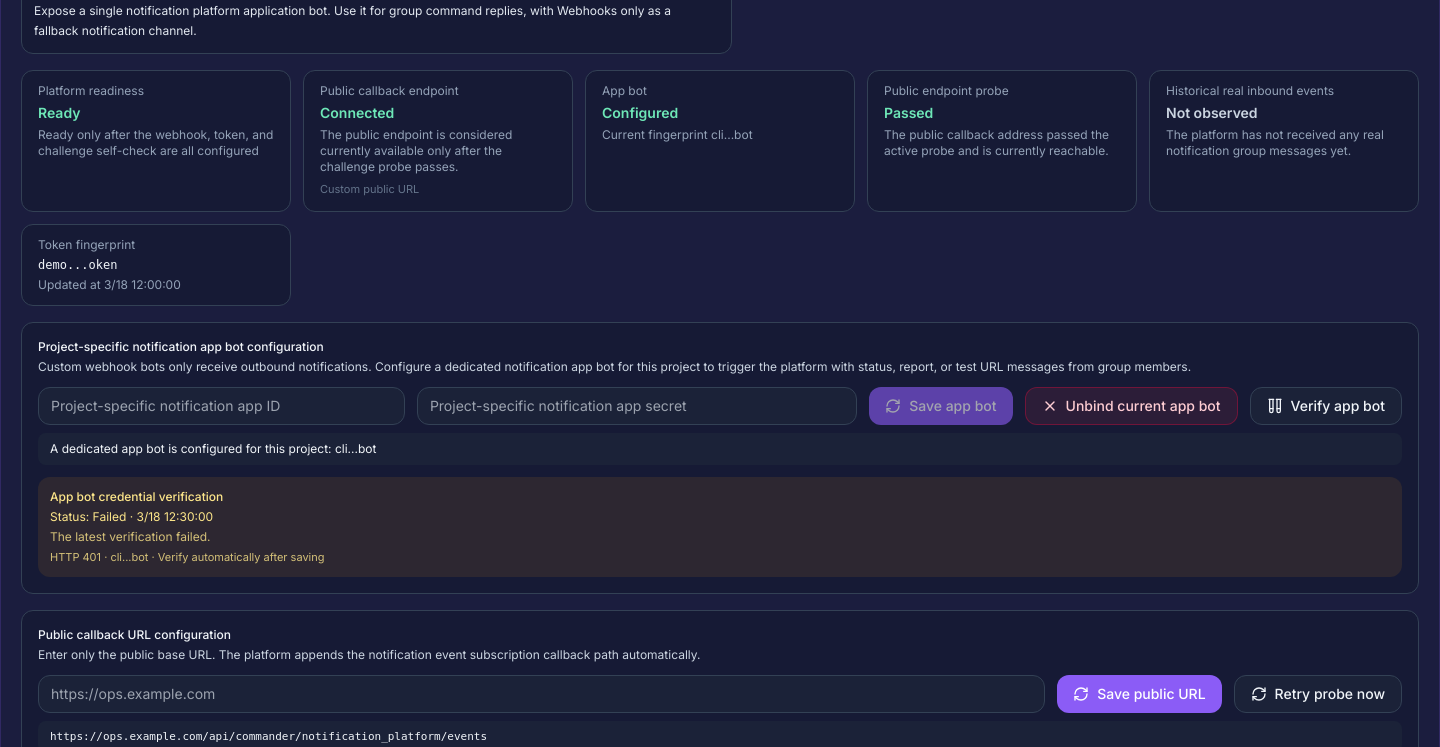
Scenario: NotificationPage › should self check app bot credentials from notification page
(page scrolled)
Check: the text "App bot credential verification" is shown, box [50, 489, 223, 504]
Click the button "Verify app bot": click(1326, 406) [1250, 387, 1402, 425]
(page scrolled)
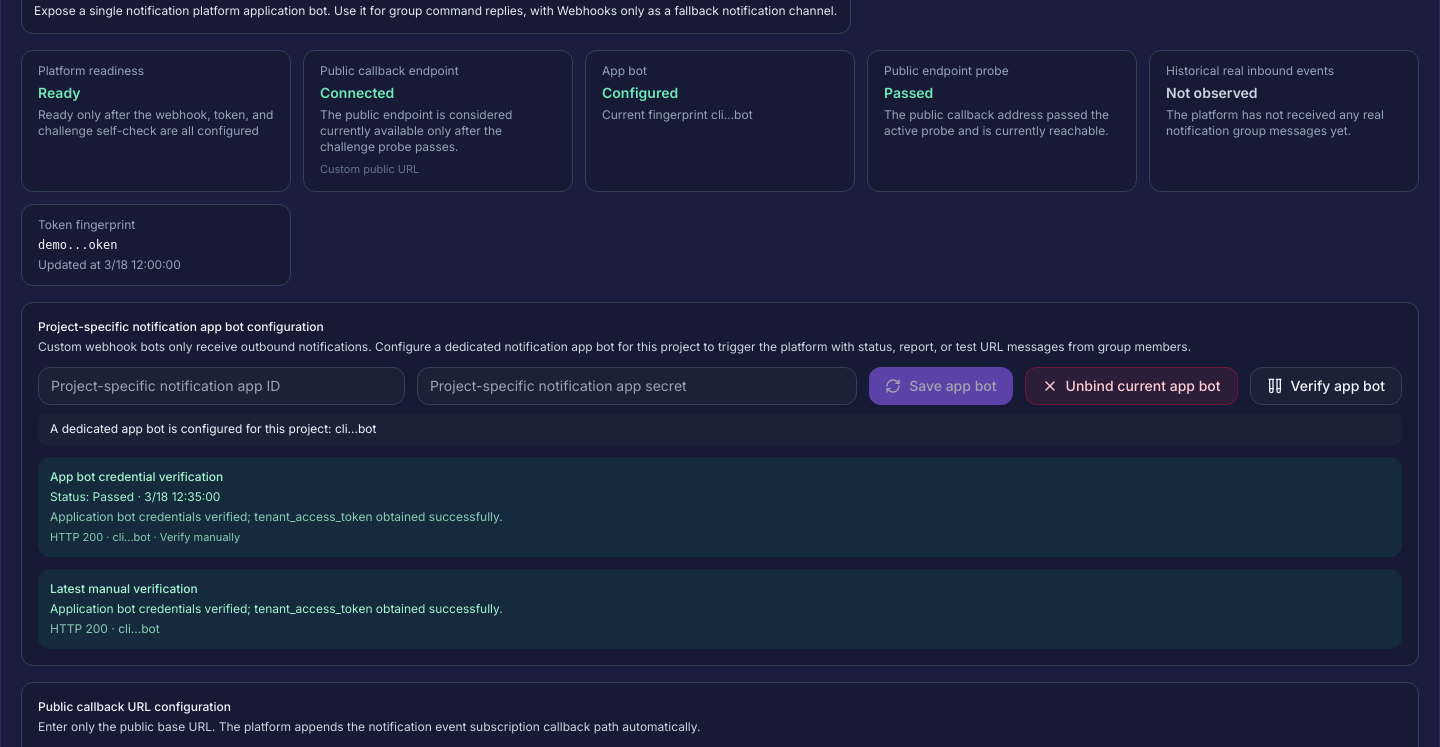
Check: the text "Latest manual verification" is shown, box [50, 581, 198, 596]
Check: the text "Application bot credentials verified" below "Status:" is shown, box [50, 509, 503, 524]
